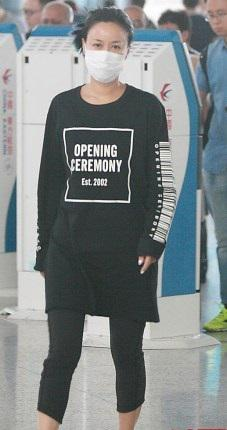NONE: (123, 12, 151, 40), (42, 10, 68, 40), (22, 4, 46, 30), (208, 9, 227, 37)
OK: (86, 37, 127, 81)
